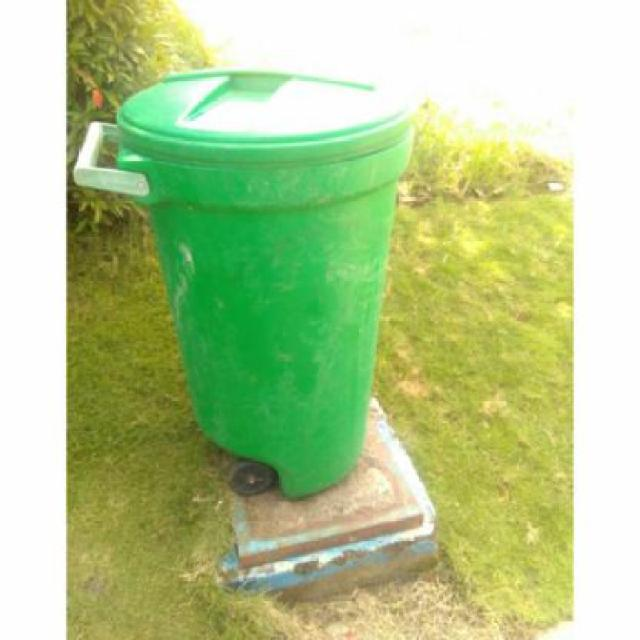garbage container: (64, 56, 430, 510)
